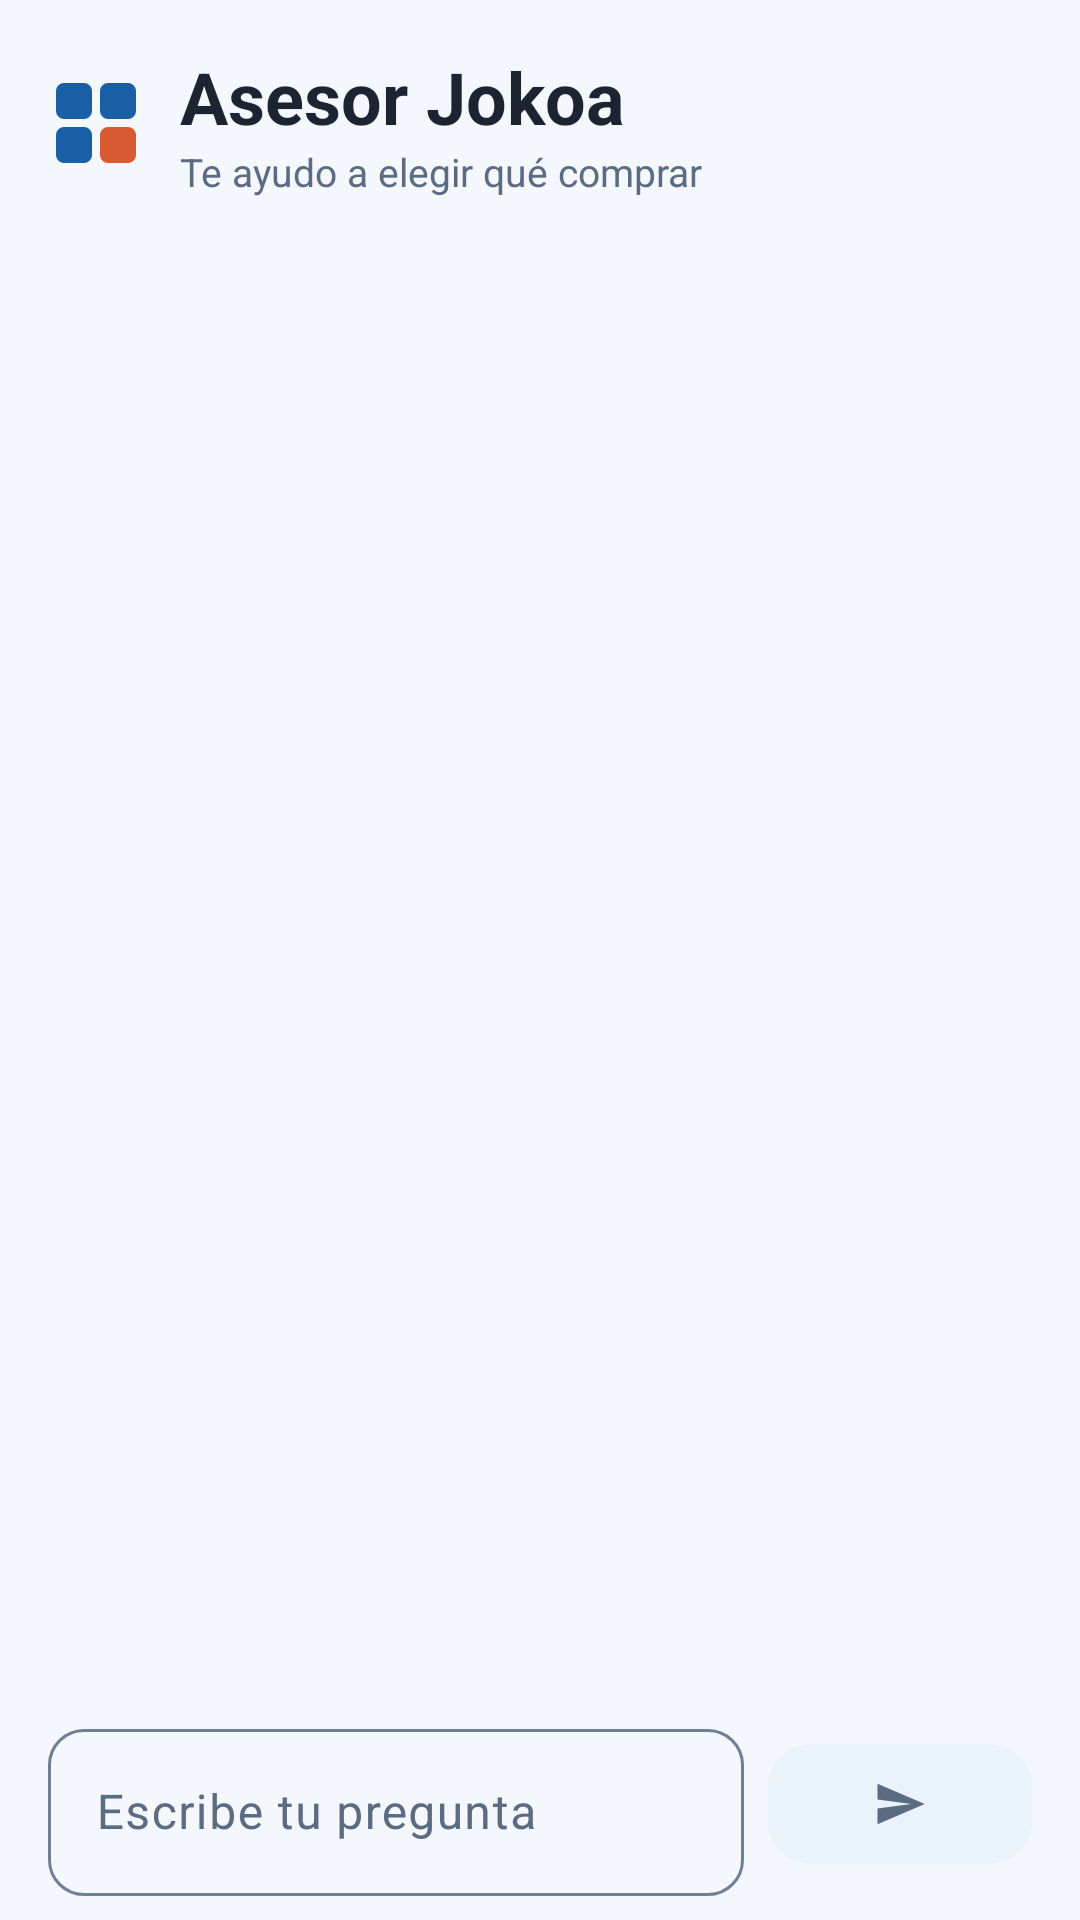

Where icons sit on this 1080w x 1920h app screen, as (x1, y1, x2, y2):
Enviar: (768, 1744, 1032, 1864)
